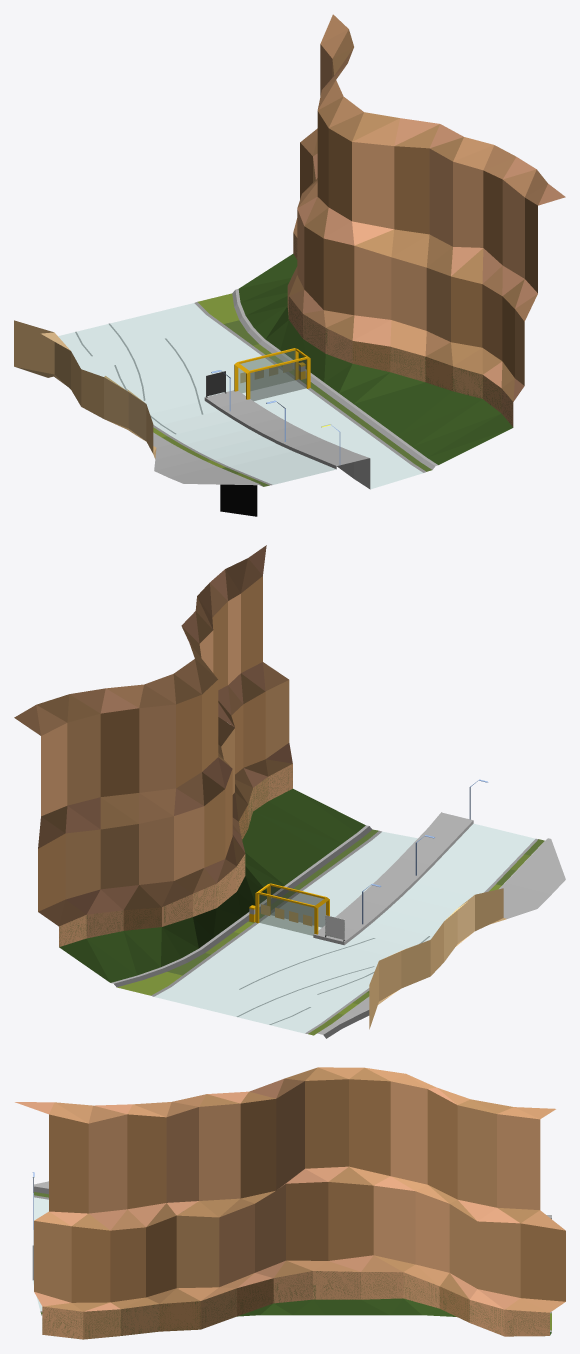
3 renders of one model, top to bottom at view 1: azimuth 30°, elevation 25°; view 2: azimuth 150°, elevation 25°; view 3: azimuth 270°, elevation 25°, orthographic. The views are drawn at different scales.
Visible parts, largest first — view 1: O30363; view 2: O30363; view 3: O30363.
Part boxes in pixels (box(x1,y1,x2,y2)): O30363: box(14, 14, 565, 516); O30363: box(14, 545, 565, 1038); O30363: box(15, 1067, 565, 1339).
Size of the model in its own units: 112 by 76 by 136.
